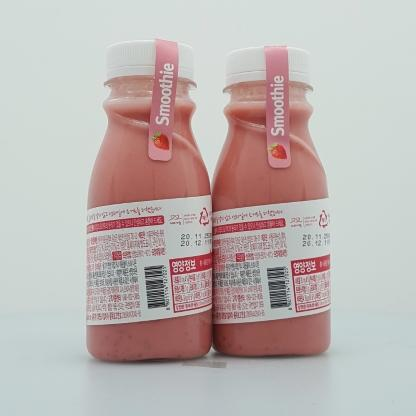--------------------190ML: (86, 38, 212, 361), (211, 45, 331, 356)
